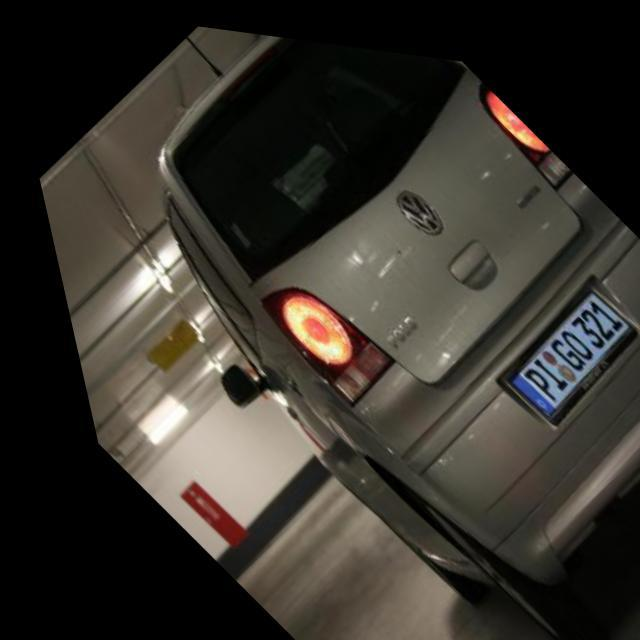license_plate: (465, 257, 640, 428)
